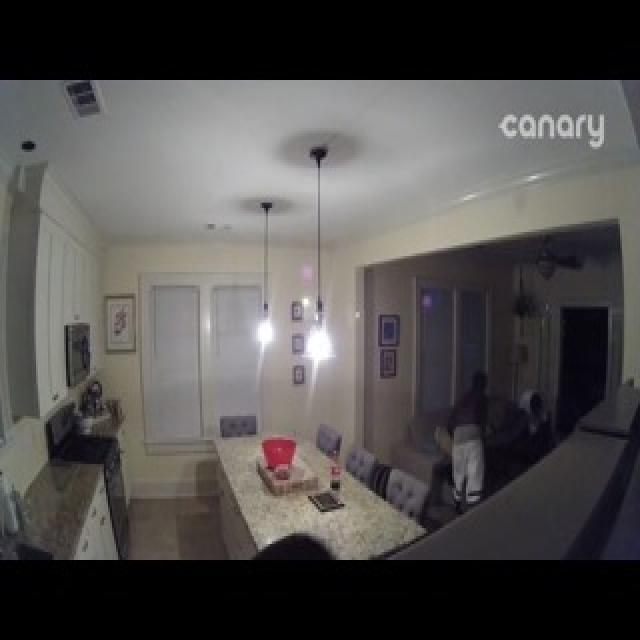thief: (438, 353, 564, 487)
